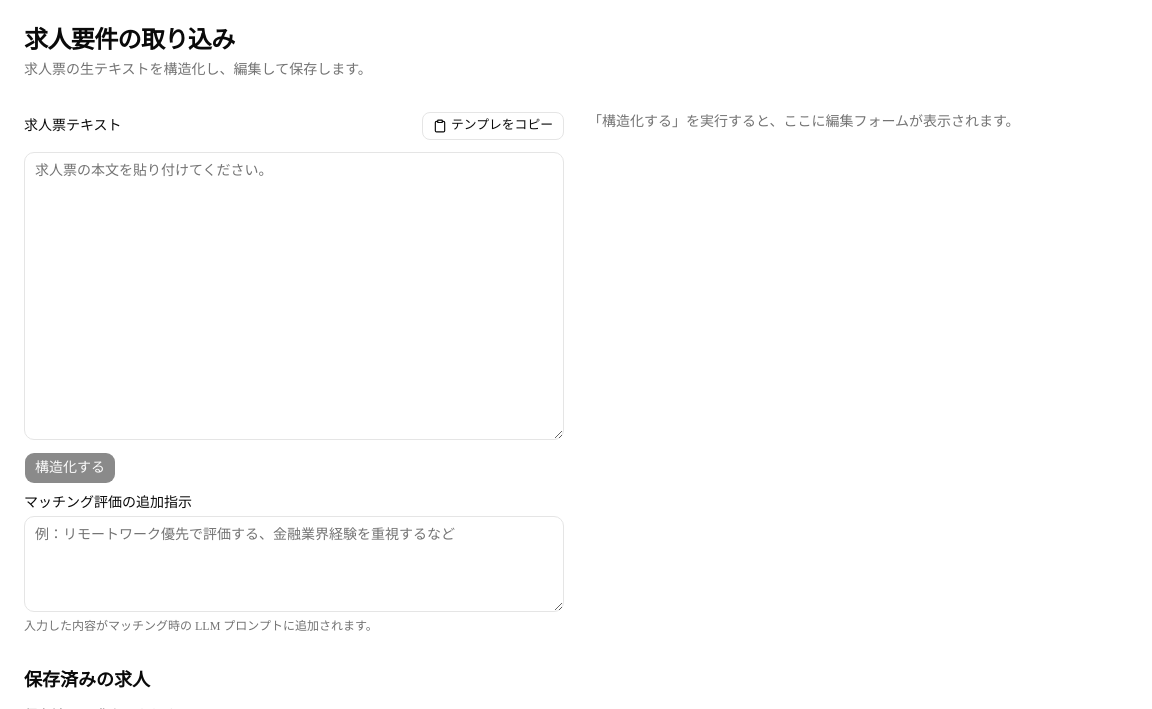
Test: parse 失敗系の文言出し分け › LLM_UNAVAILABLE のとき専用文言を表示する
Type "テキスト" into the text box labelled "求人票テキスト" at (294, 296), box [24,152,564,440]
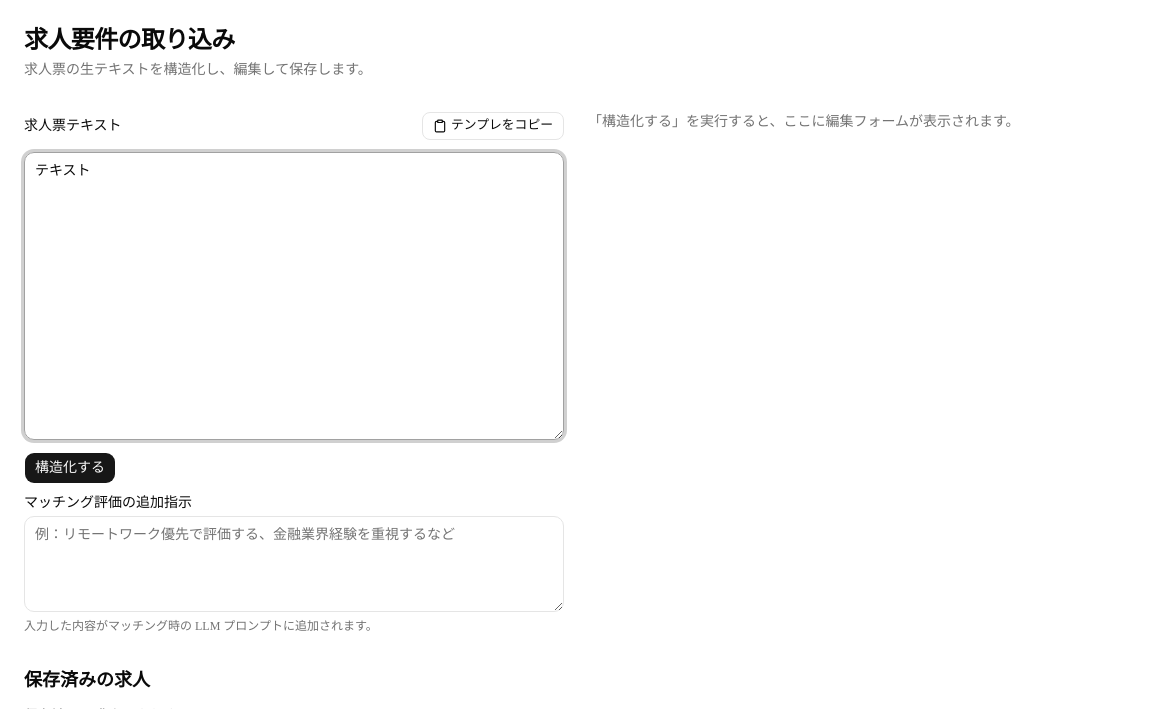
Click the button "構造化する" at (70, 468), box [24,452,116,484]
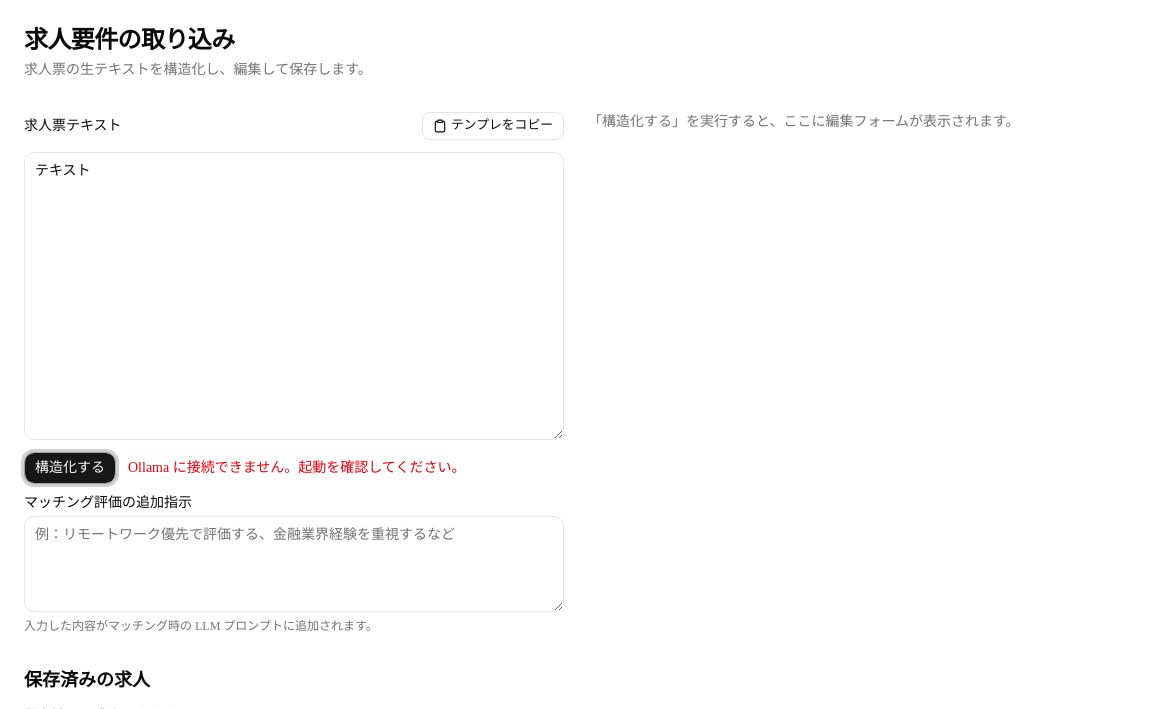
Expected: the message reads "Ollama に接続できません。起動を確認してください。", [128,460,466,475]
